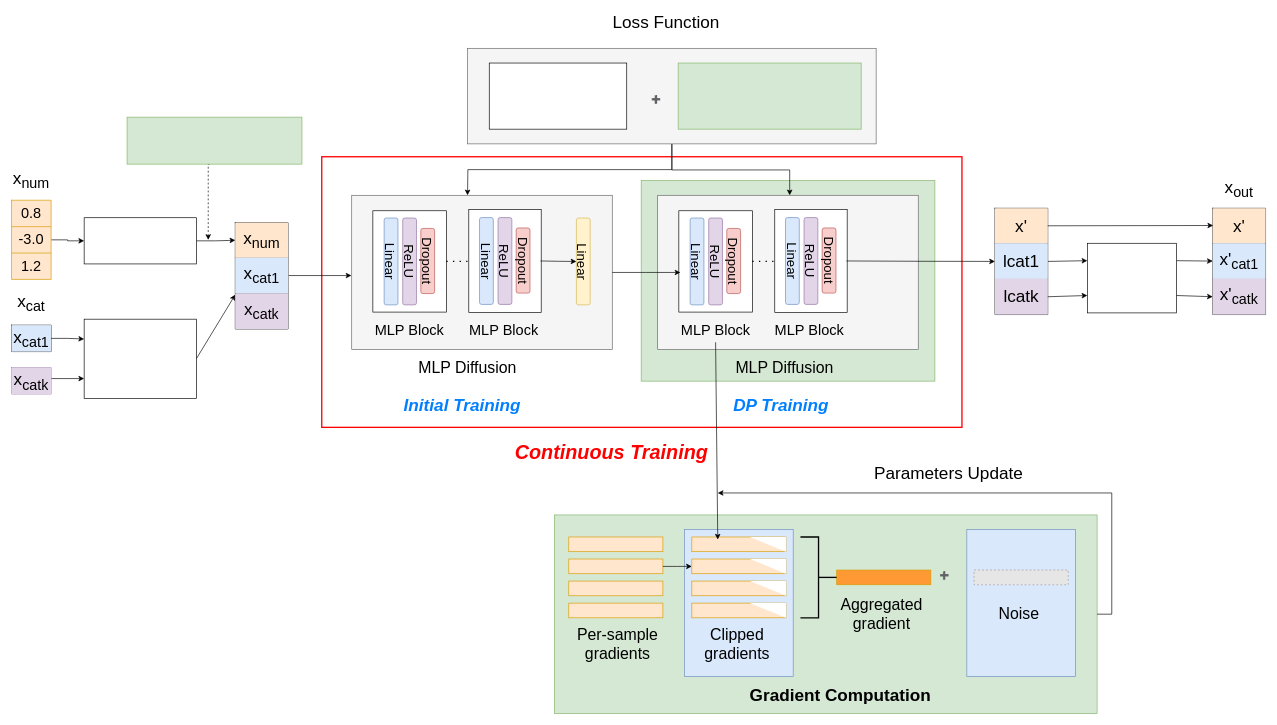
Image size: 1277x725. Some labels were removed from this diagram. Grey dashed boxes stand in for pictures. The box of each missing label's shape, as (x1, y1, x2, y2) in pixels:
Conditional Information + Outlier Detection: (677, 62, 861, 129)
Gaussian Loss + Multinomial Loss: (489, 62, 627, 129)
One-hot Encoder: (83, 319, 196, 398)
Quantile Transformer: (83, 217, 196, 264)
rtdl-num-embeddings: (126, 116, 302, 164)
Softmax: (1087, 243, 1176, 313)
